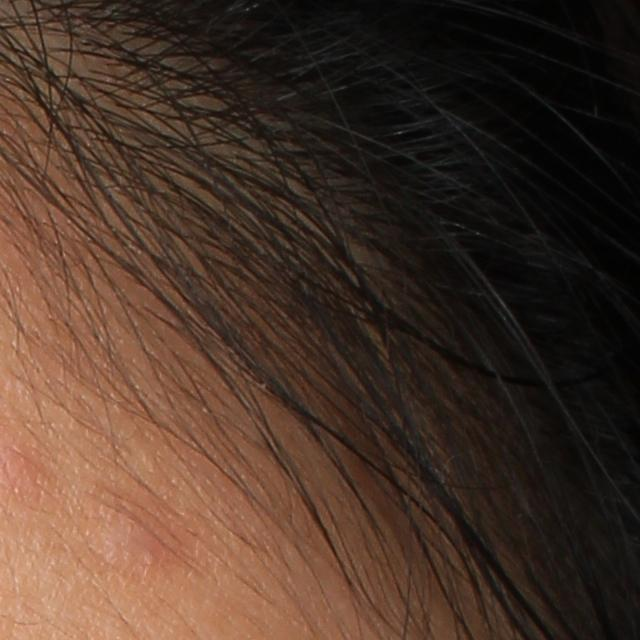papule: (101, 515, 161, 568), (2, 445, 42, 492)
